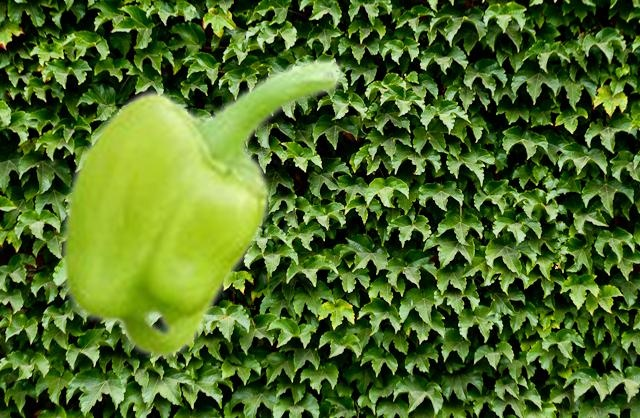bell_pepper: (58, 56, 345, 359)
